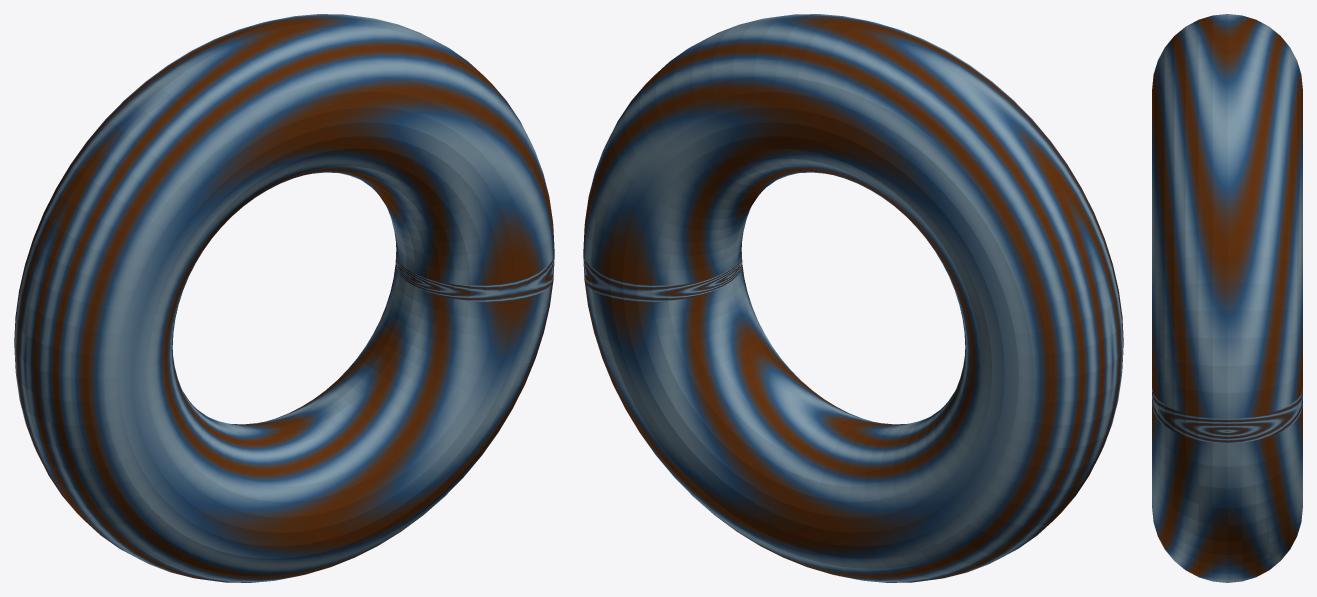
File: torus-cool-steel-c1.glb
3 renders of one model, left to right at view 1: azimuth 30°, elevation 25°; view 2: azimuth 150°, elevation 25°; view 3: azimuth 270°, elevation 25°, orthographic. The views are drawn at different scales.
Visible parts, largest first — view 1: world; view 2: world; view 3: world.
Boxes of the visible parts, x1=… form: world: x1=14, y1=14, x2=554, y2=582; world: x1=583, y1=14, x2=1123, y2=582; world: x1=1152, y1=14, x2=1302, y2=582.
Size of the model in its own units: 1.36 by 1.36 by 0.36.
1 material, 1 textured.
